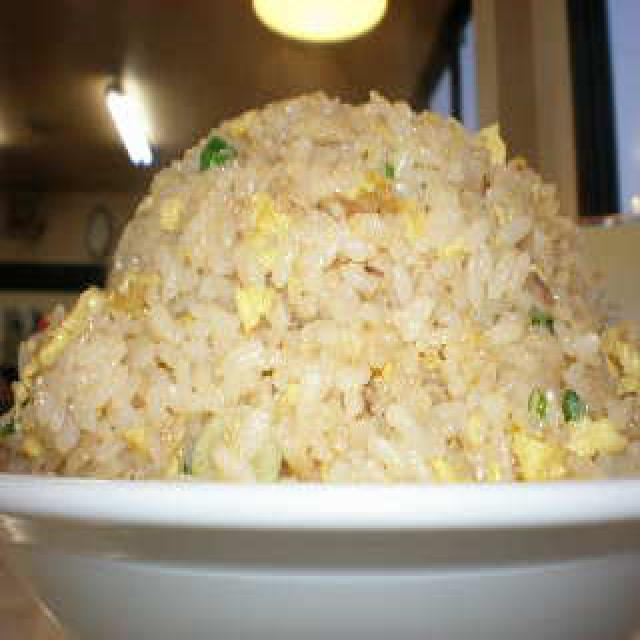fried-rice: (160, 74, 568, 550)
